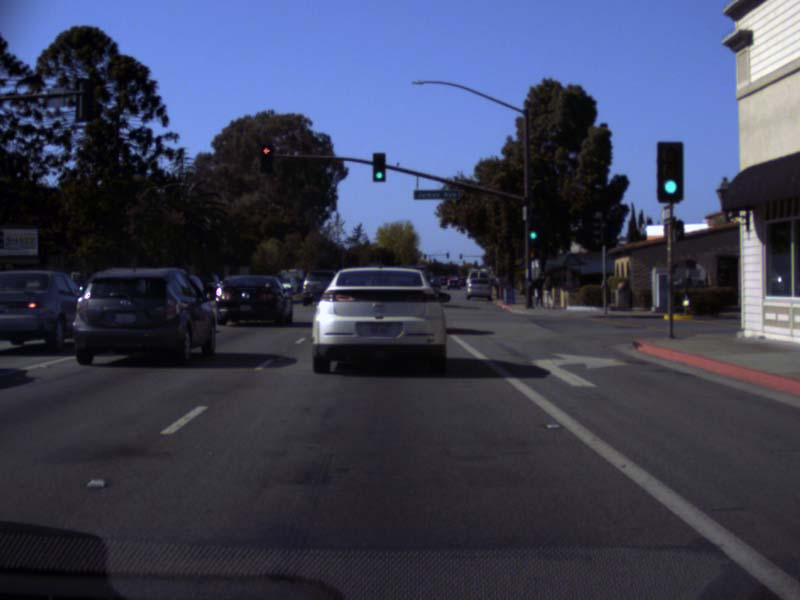Green: (656, 141, 682, 200), (527, 217, 542, 247), (372, 152, 385, 181)
Red: (259, 143, 272, 172)
